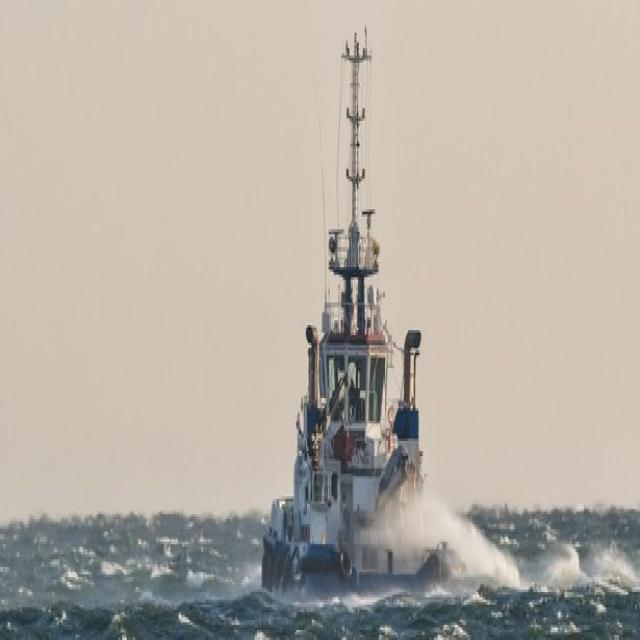fishing boat: (253, 29, 459, 611)
